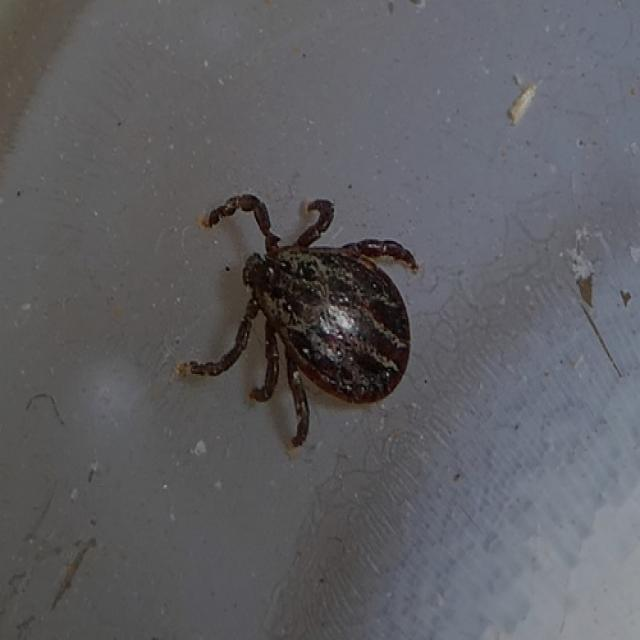Dermacentor Reticulatus-M: (189, 194, 417, 447)
